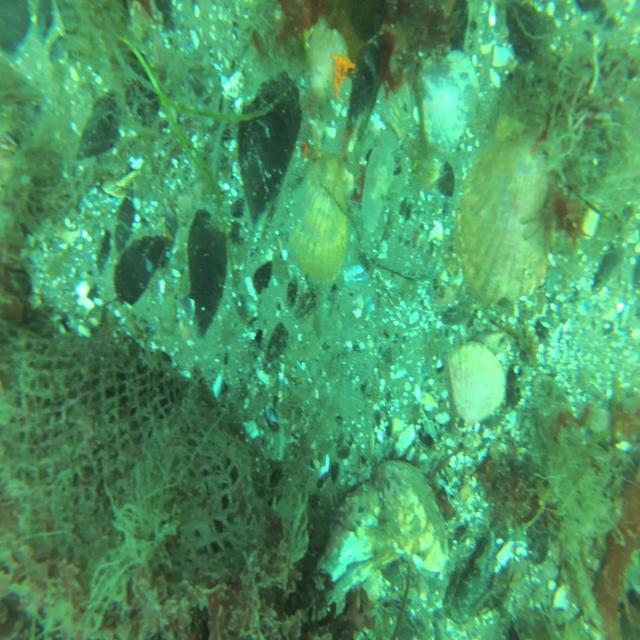scallop: (455, 132, 551, 311), (276, 149, 350, 286), (372, 451, 450, 580), (411, 42, 483, 160), (446, 336, 505, 428), (302, 20, 348, 107)
